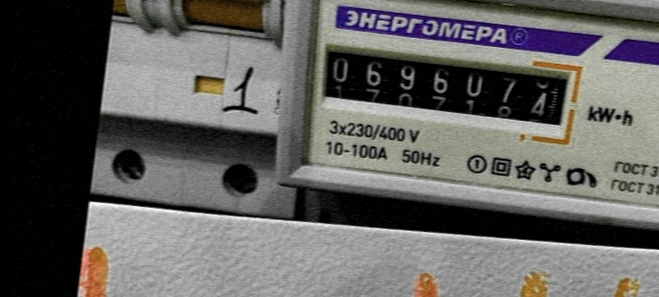0: (329, 53, 353, 83), (465, 67, 487, 98), (365, 57, 385, 85)
4: (529, 88, 549, 118)
6: (430, 63, 452, 95)
7: (498, 72, 519, 103)
9: (397, 61, 419, 91)
screen: (304, 28, 586, 145)
